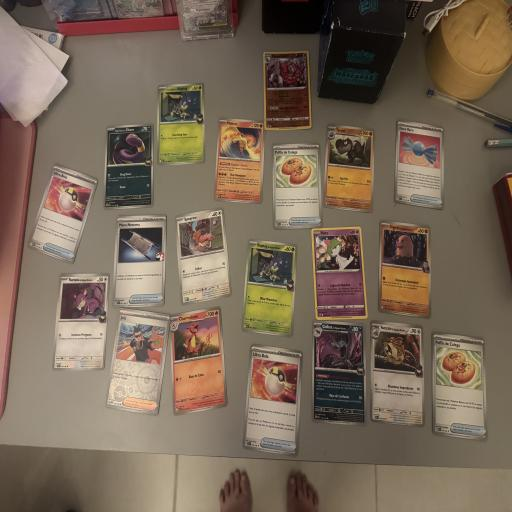card: (25, 164, 101, 265), (242, 343, 305, 457), (105, 308, 172, 415), (170, 306, 228, 416), (52, 269, 112, 375), (432, 332, 488, 442), (312, 320, 368, 426), (370, 320, 425, 427), (241, 239, 300, 337), (174, 207, 232, 306), (311, 226, 368, 322), (378, 220, 433, 319), (112, 213, 167, 310), (323, 124, 377, 213), (394, 119, 446, 210), (270, 142, 323, 230), (214, 118, 267, 205), (103, 123, 154, 211), (157, 82, 206, 167), (263, 51, 312, 131)
